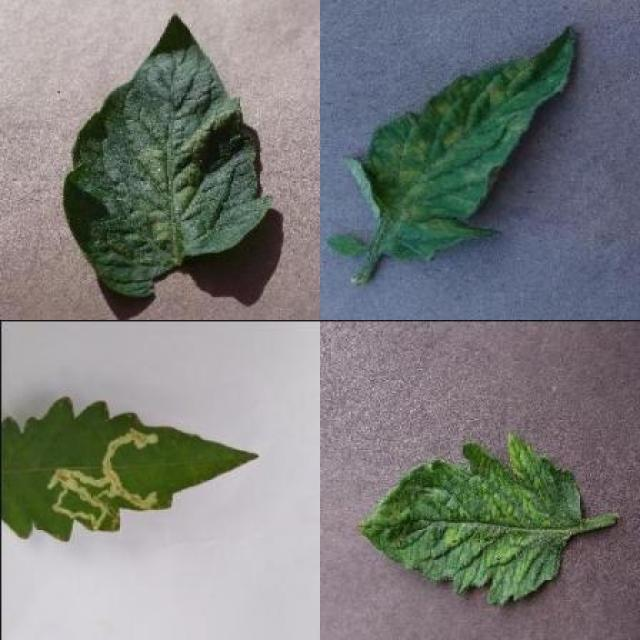Leaf Miner: (0, 393, 261, 543)
Leaf Mold: (349, 24, 574, 262)
Mosaic Virus: (359, 434, 584, 604)
Spider Mites: (64, 14, 272, 299)
